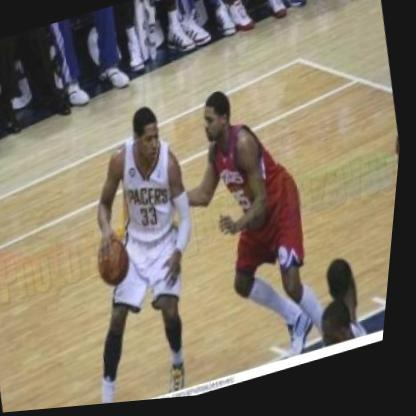basketball: (96, 233, 140, 296)
